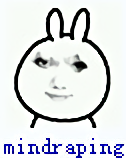dragon: (33, 54, 88, 101)
